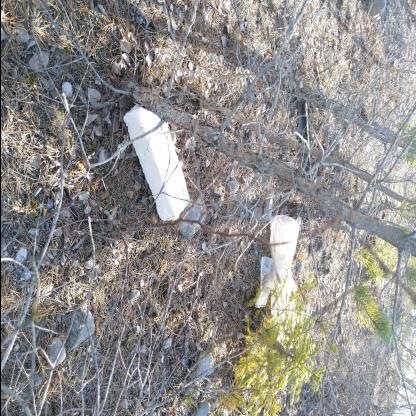kopuk: (123, 104, 190, 222)
plastik: (255, 215, 301, 328)
